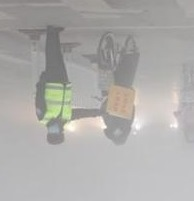person: (33, 25, 100, 147), (99, 51, 137, 146), (174, 74, 194, 146)
